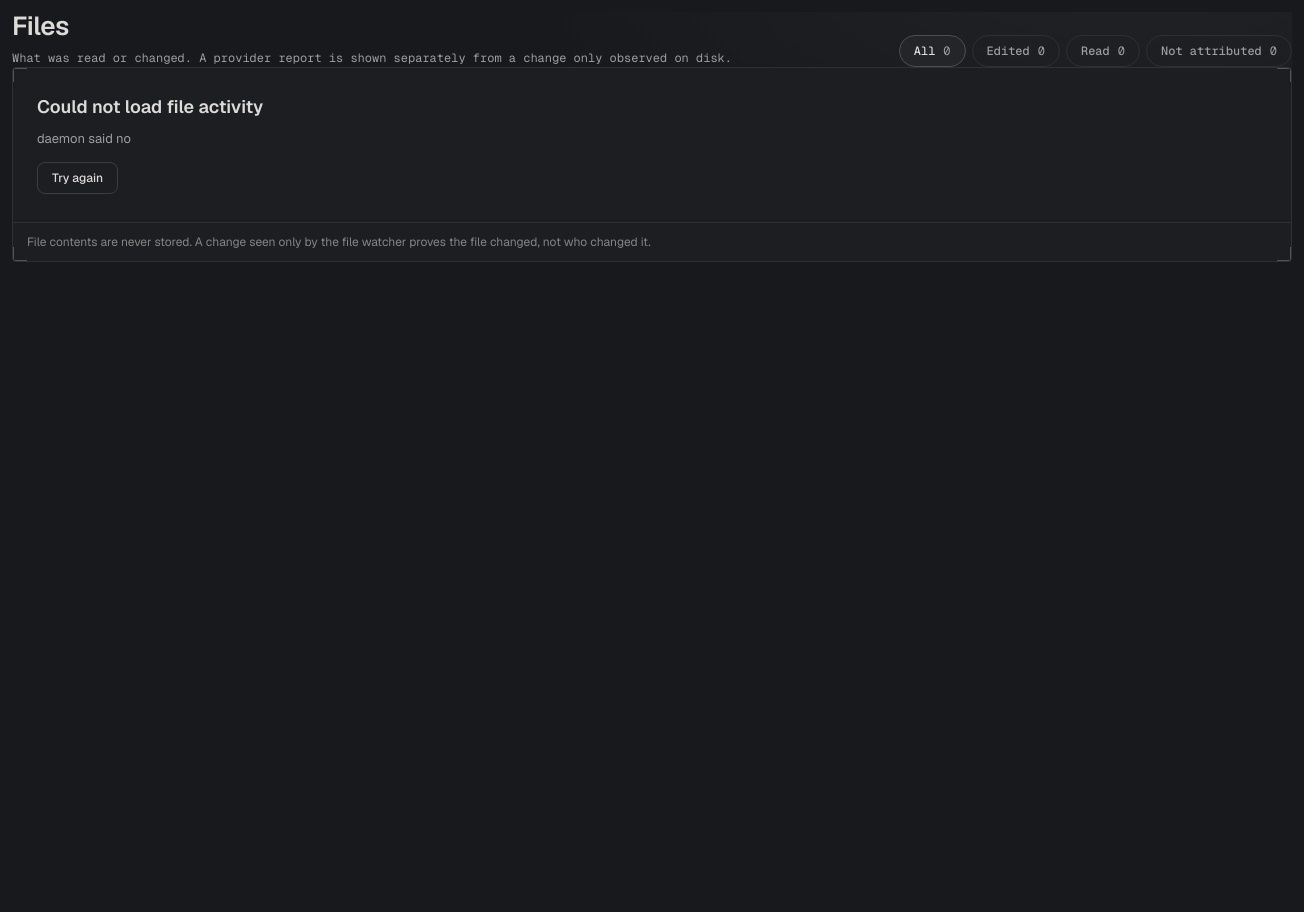
Test: Files page › shows an error with a way to retry when the query fails
Check: the message shows "daemon said no", box 37,130 -> 131,147
Click the button "Try again" at (78, 178), box 37,162 -> 118,194
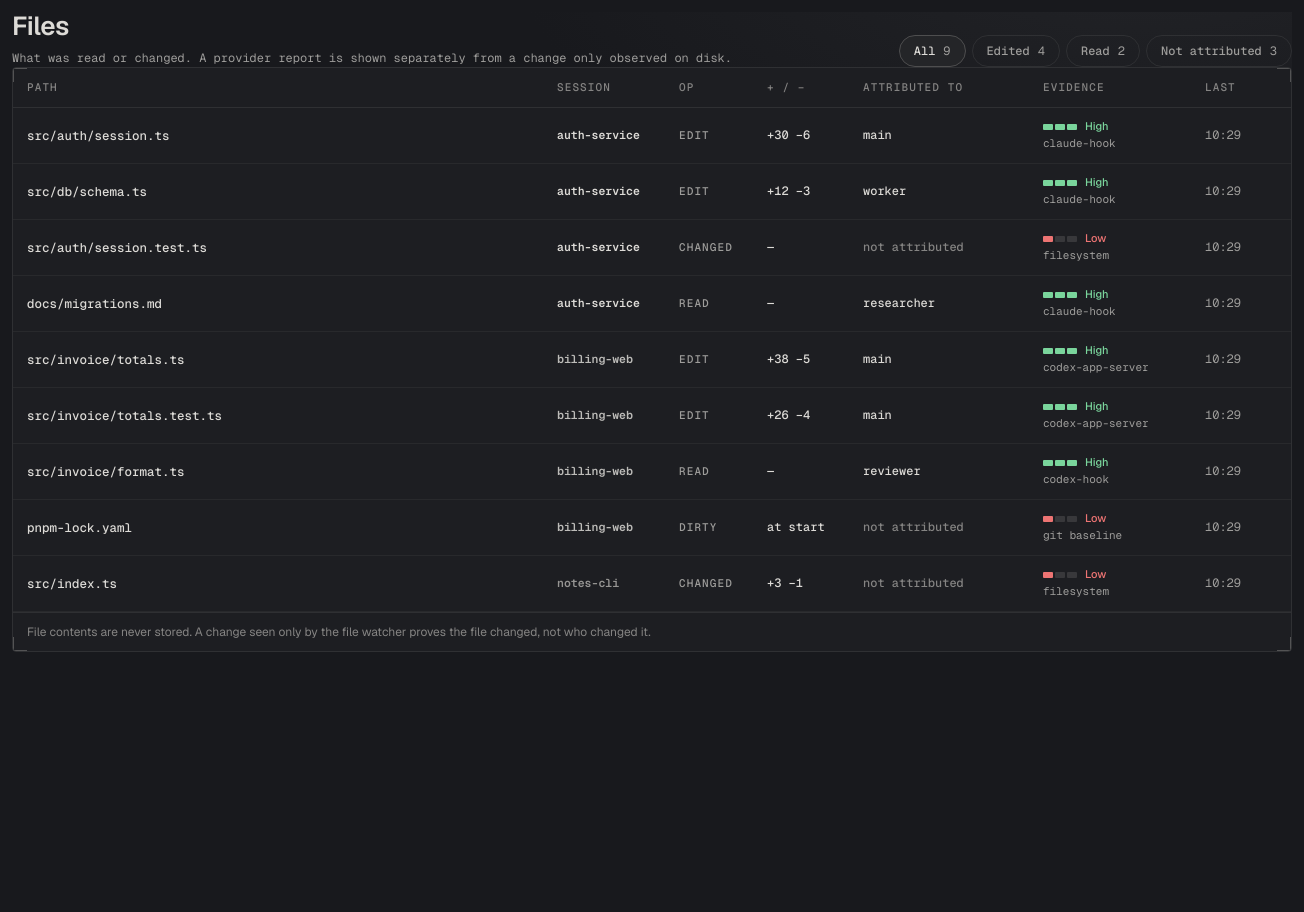
Check: the text "src/auth/session.ts" is shown, box 27,127 -> 170,144
